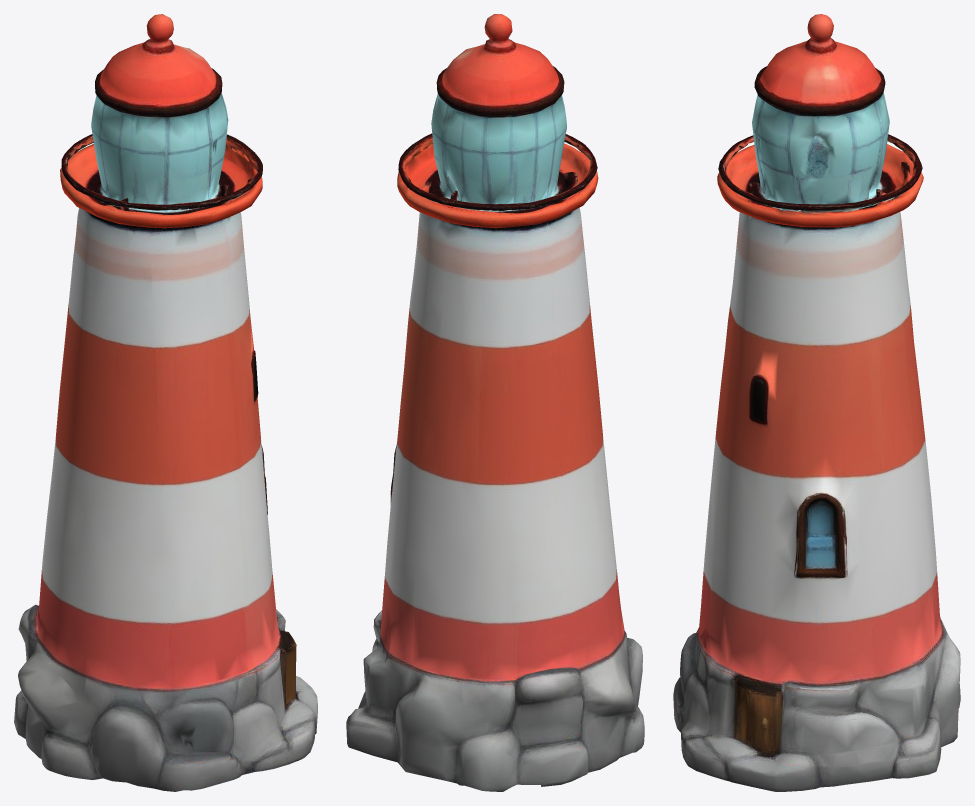
Rendered from deniz_feneri.glb.
The picture shows the model from 3 angles, left to right: view 1: azimuth 30°, elevation 25°; view 2: azimuth 150°, elevation 25°; view 3: azimuth 270°, elevation 25°; orthographic projection.
Visible parts, largest first — view 1: geometry_0; view 2: geometry_0; view 3: geometry_0.
Part boxes in pixels (x1,y1,x2,y2): geometry_0: (14, 14, 317, 791); geometry_0: (346, 14, 644, 791); geometry_0: (673, 14, 960, 791).
Size of the model in its own units: 0.3903 by 0.9998 by 0.3642.
1 material, 1 textured.
